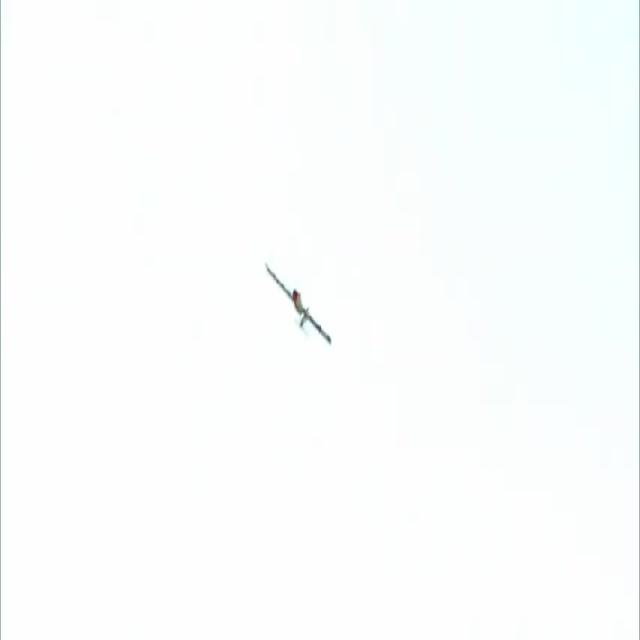iha: (296, 288, 300, 313)
